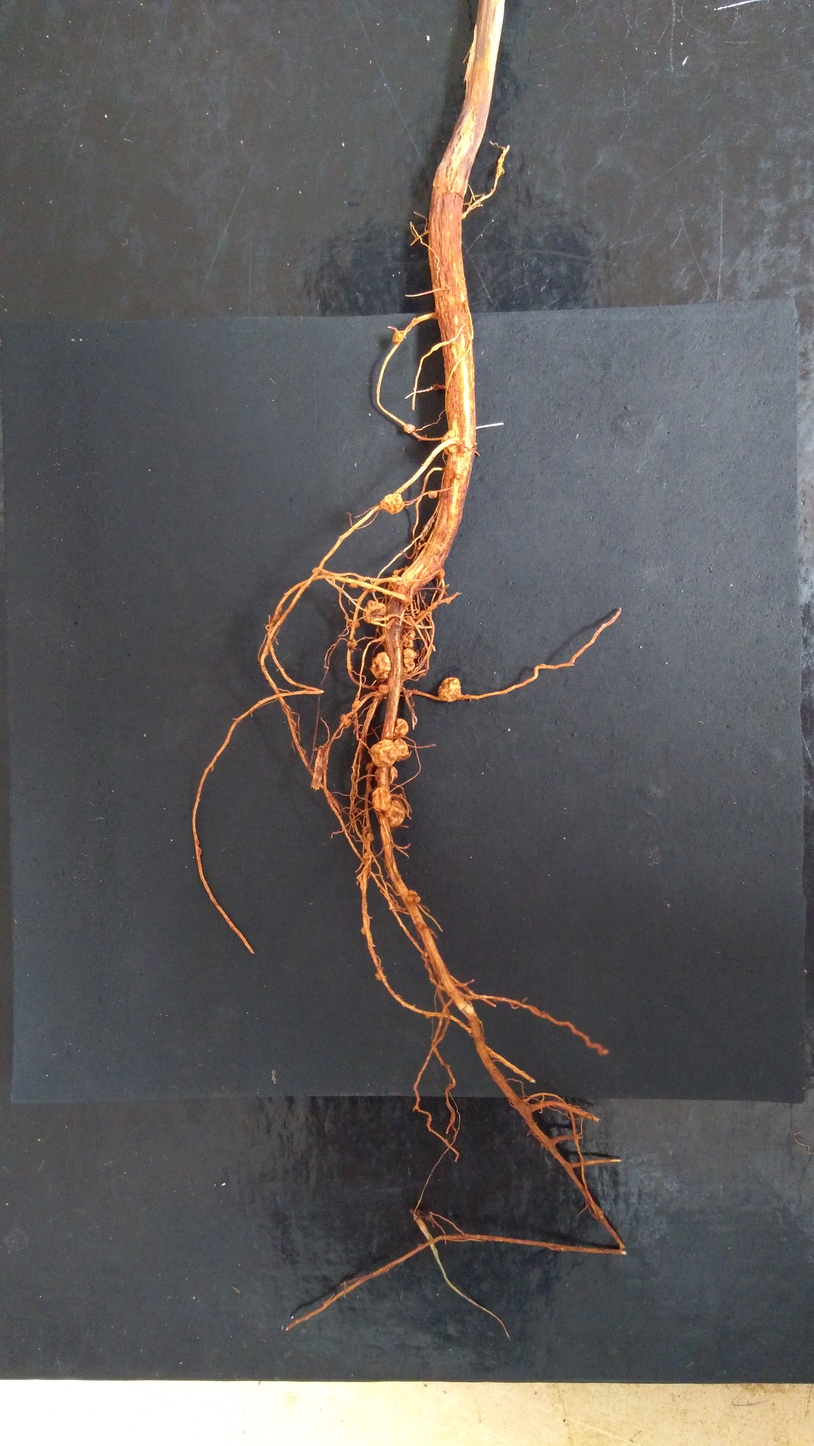nodule: (370, 740, 396, 767), (371, 652, 391, 681), (438, 677, 461, 702), (362, 600, 386, 623), (371, 787, 391, 812), (388, 798, 405, 827), (381, 494, 404, 514), (375, 765, 398, 784), (442, 430, 458, 455), (393, 739, 410, 761), (402, 648, 417, 672), (393, 717, 409, 737), (401, 628, 415, 647), (406, 889, 420, 903), (404, 615, 414, 629), (400, 595, 412, 606), (340, 714, 351, 726), (378, 684, 389, 695), (392, 332, 404, 342), (391, 574, 399, 589), (403, 424, 415, 433), (347, 639, 357, 649), (416, 610, 427, 619), (436, 568, 445, 578), (378, 635, 386, 646), (351, 700, 360, 708), (363, 851, 372, 859), (428, 491, 438, 498), (348, 582, 357, 589), (351, 621, 360, 628), (367, 833, 374, 841), (365, 588, 376, 593), (312, 568, 322, 573), (411, 318, 418, 325), (375, 973, 382, 980), (276, 605, 282, 613), (274, 614, 280, 622), (404, 691, 412, 697), (366, 762, 372, 770), (363, 826, 368, 834), (361, 927, 366, 935), (366, 775, 372, 781), (358, 578, 364, 583), (403, 566, 409, 571), (392, 570, 399, 574), (353, 712, 357, 718), (386, 624, 390, 628)
